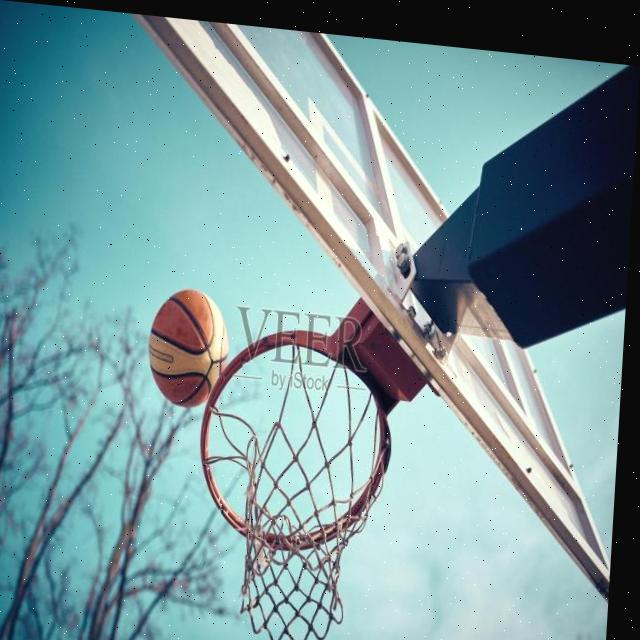Basketball: (146, 284, 233, 411)
